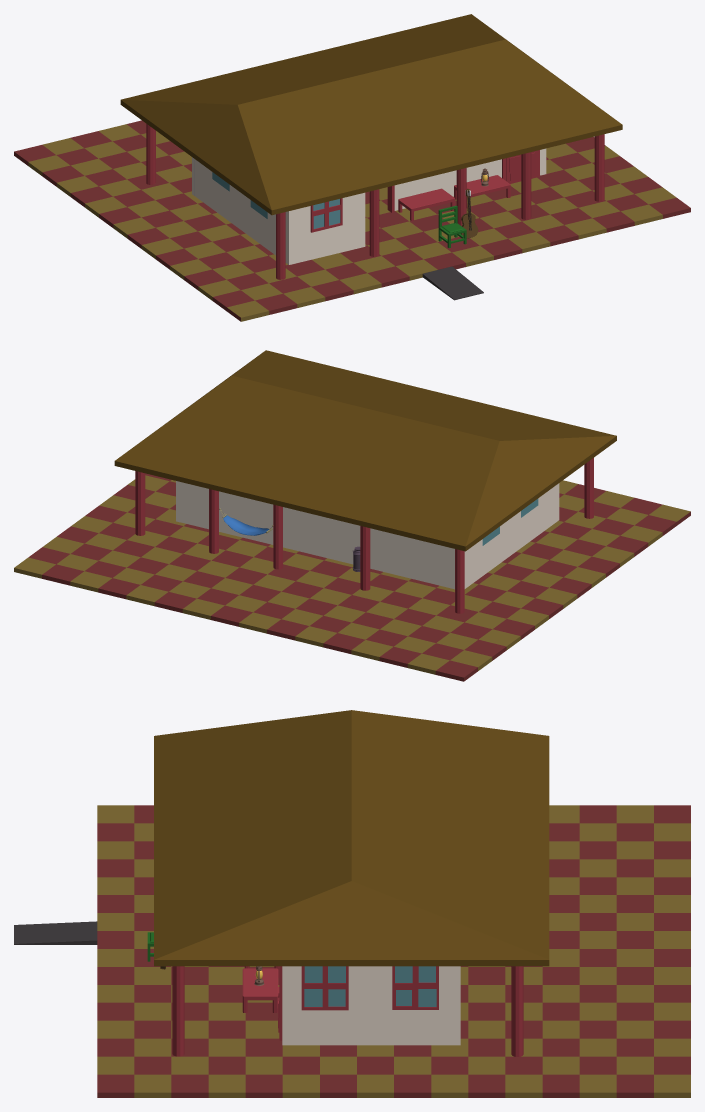
Rendered from Casa alma 11.fbx.
The picture shows the model from 3 angles, top to bottom: view 1: azimuth 30°, elevation 25°; view 2: azimuth 150°, elevation 25°; view 3: azimuth 270°, elevation 25°; orthographic projection. The views are drawn at different scales.
Parts seen in each view (by area): view 1: ciling, floor, house, ramp, bench1, Chair, column 7, column 9, column 6, bench2, column 10, door 2 (+4 smaller); view 2: floor, ciling, house, column 2, column 5, column 4, column 3, column 1, column 10; view 3: ciling, floor, house, ramp, Plane, bench2, Plane.001, column 5, column 6, left window, Cube.002.
Part boxes in pixels (<box>): ciling: <box>120,14,622,215</box>; floor: <box>14,120,690,321</box>; house: <box>192,148,546,264</box>; ramp: <box>422,266,483,300</box>; bench1: <box>398,188,454,220</box>; Chair: <box>438,205,466,247</box>; column 7: <box>521,152,531,219</box>; column 9: <box>369,189,379,256</box>; column 6: <box>594,134,604,201</box>; bench2: <box>454,175,510,207</box>; column 10: <box>276,212,285,279</box>; door 2: <box>506,150,537,183</box>; floor: <box>14,473,690,681</box>; ciling: <box>114,350,616,551</box>; house: <box>176,481,559,589</box>; column 2: <box>360,526,370,590</box>; column 5: <box>135,471,145,535</box>; column 4: <box>209,489,218,553</box>; column 3: <box>273,504,282,569</box>; column 1: <box>455,549,464,613</box>; column 10: <box>584,458,593,518</box>; ciling: <box>154,710,549,966</box>; floor: <box>97,805,690,1097</box>; house: <box>282,966,460,1045</box>; ramp: <box>14,921,97,944</box>; Plane: <box>304,966,345,1006</box>; bench2: <box>242,968,278,1012</box>; Plane.001: <box>395,966,436,1006</box>; column 5: <box>511,966,523,1056</box>; column 6: <box>172,966,184,1056</box>; left window: <box>301,966,348,1010</box>; Cube.002: <box>392,966,438,1009</box>.
Size of the model in its own units: 1247 by 325 by 1243.
